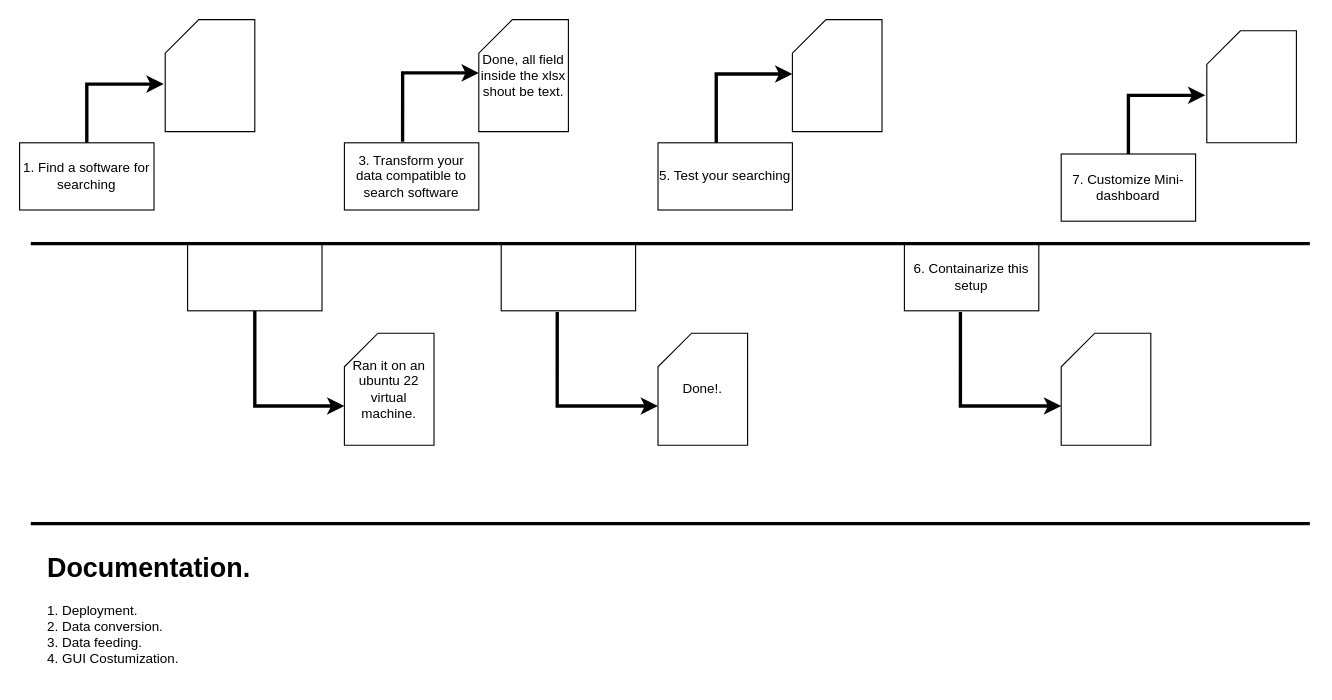
This 1332x700 diagram has some shape labels left out. Each missing label, with the centre of its shape:
"2. Run that software on your machine" goes at point 254,276.
"4. Feed your data to the searching software" goes at point 568,276.
"Done!" goes at point 836,75.
"Meilisearch" goes at point 209,75.
